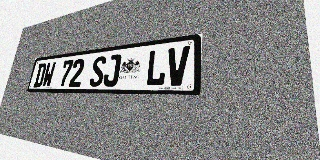2: (69, 58, 85, 87)
7: (58, 60, 74, 87)
D: (33, 63, 47, 87)
J: (102, 54, 122, 87)
L: (145, 48, 168, 86)
S: (89, 56, 107, 87)
V: (165, 46, 190, 86)
W: (41, 62, 56, 87)
